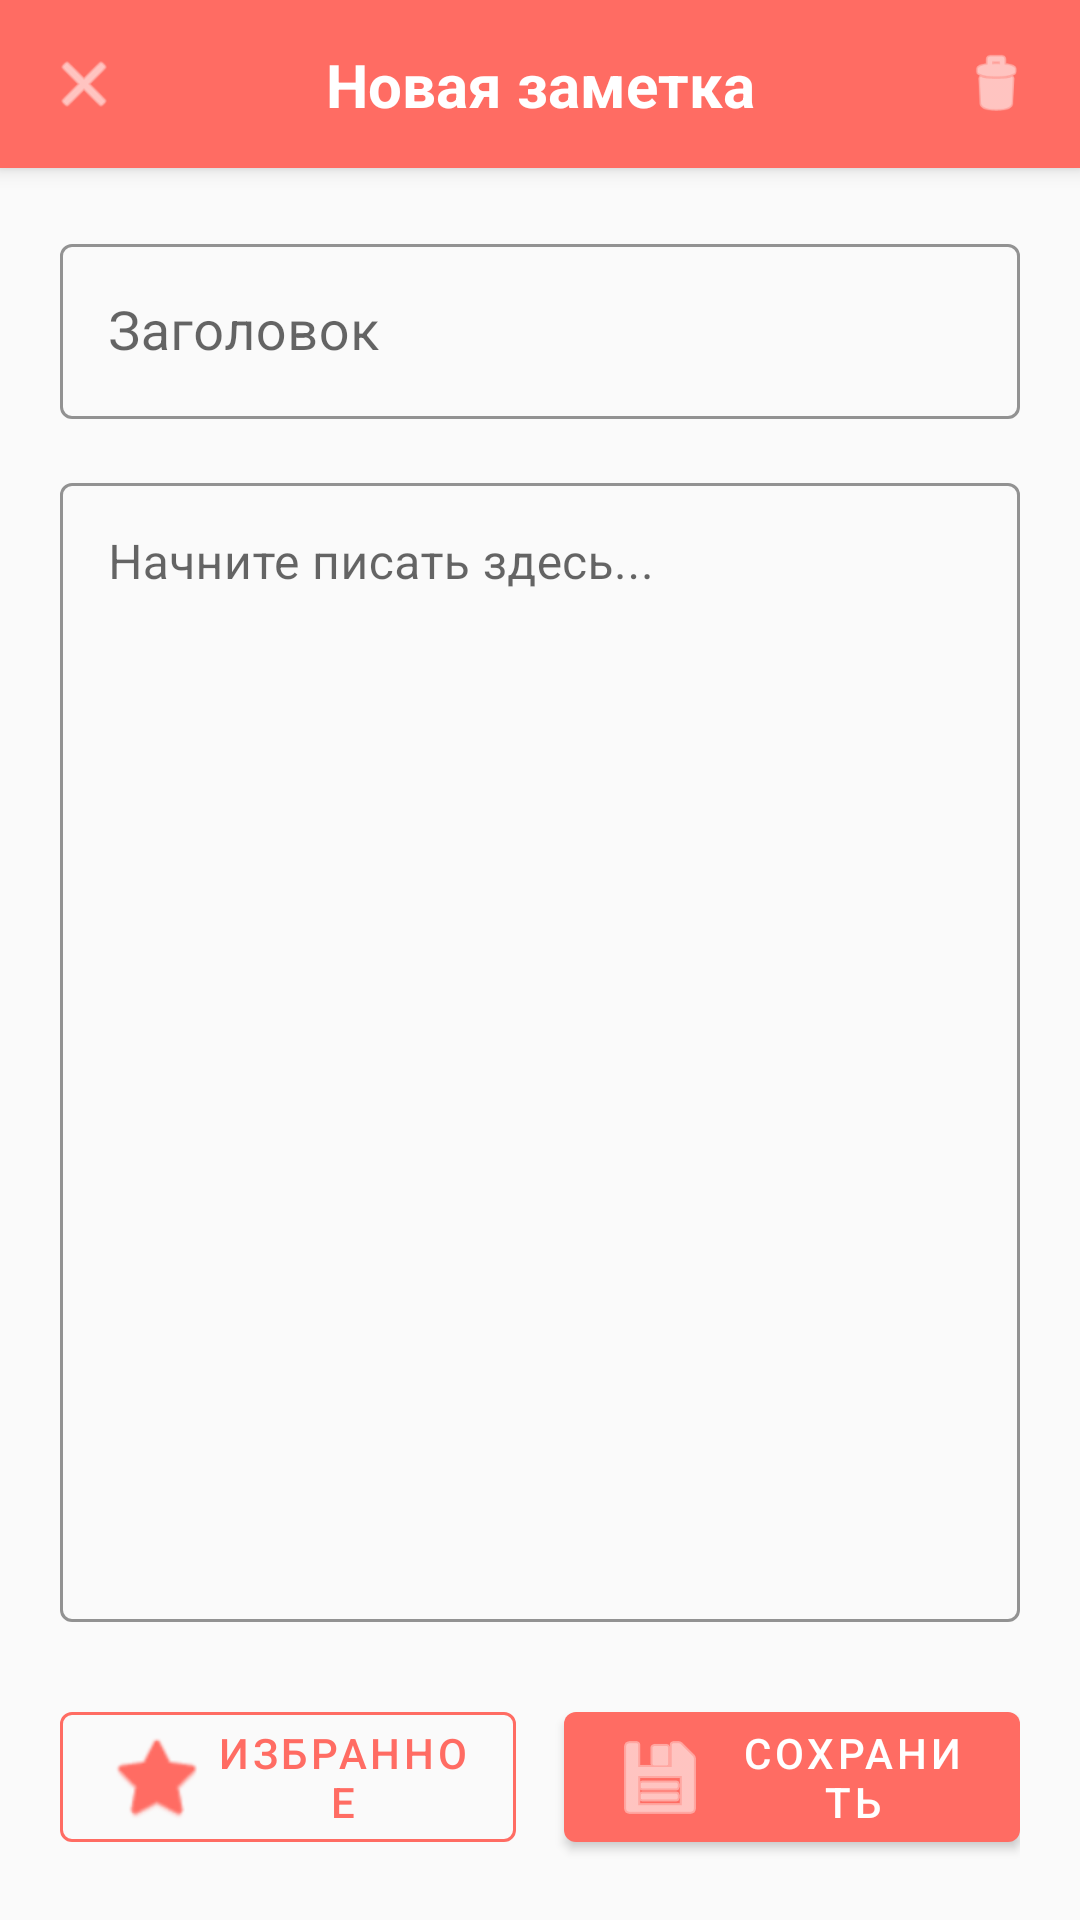

Named icons in this screenshot (1080x1920) and their centers, (x,y):
close clear cancel: (84,84)
delete: (996,83)
